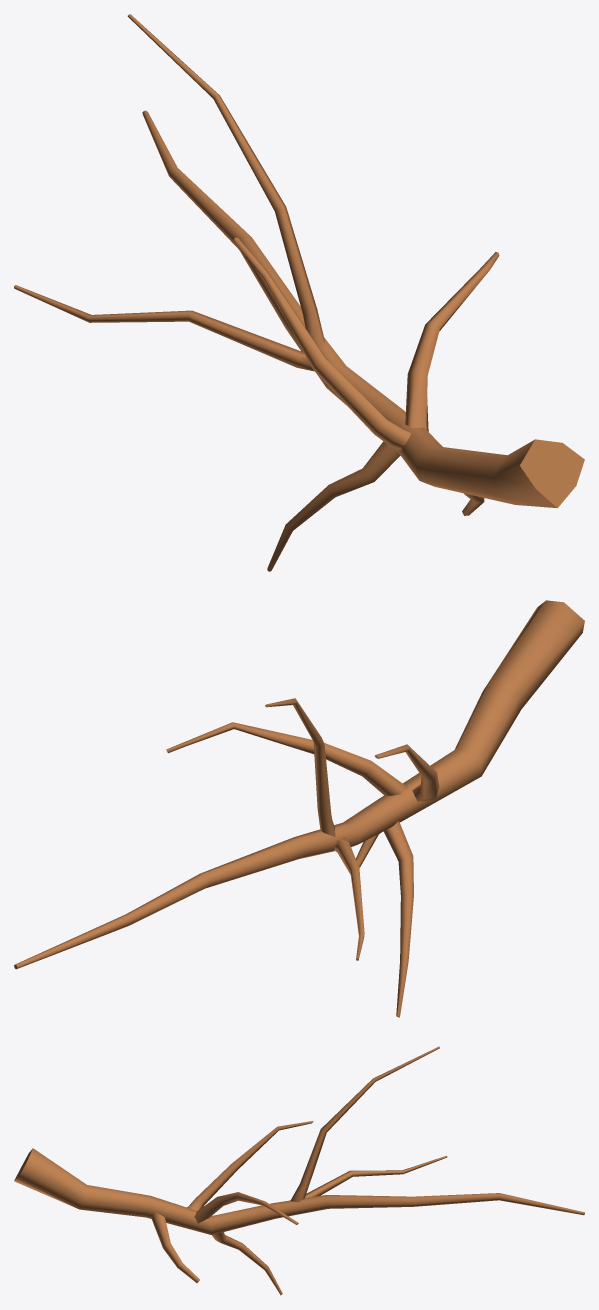
File: itch_assetquest_pond_branch_3a.glb
The picture shows the model from 3 angles, top to bottom: view 1: azimuth 30°, elevation 25°; view 2: azimuth 150°, elevation 25°; view 3: azimuth 270°, elevation 25°; orthographic projection. The views are drawn at different scales.
Visible parts, largest first — view 1: Branch_3a; view 2: Branch_3a; view 3: Branch_3a.
Part boxes in pixels (<box>): Branch_3a: <box>14,14,584,571</box>; Branch_3a: <box>14,600,584,1017</box>; Branch_3a: <box>14,1046,584,1295</box>.
Bounding box in the file's own units: 0.3745 × 0.463 × 0.96.
